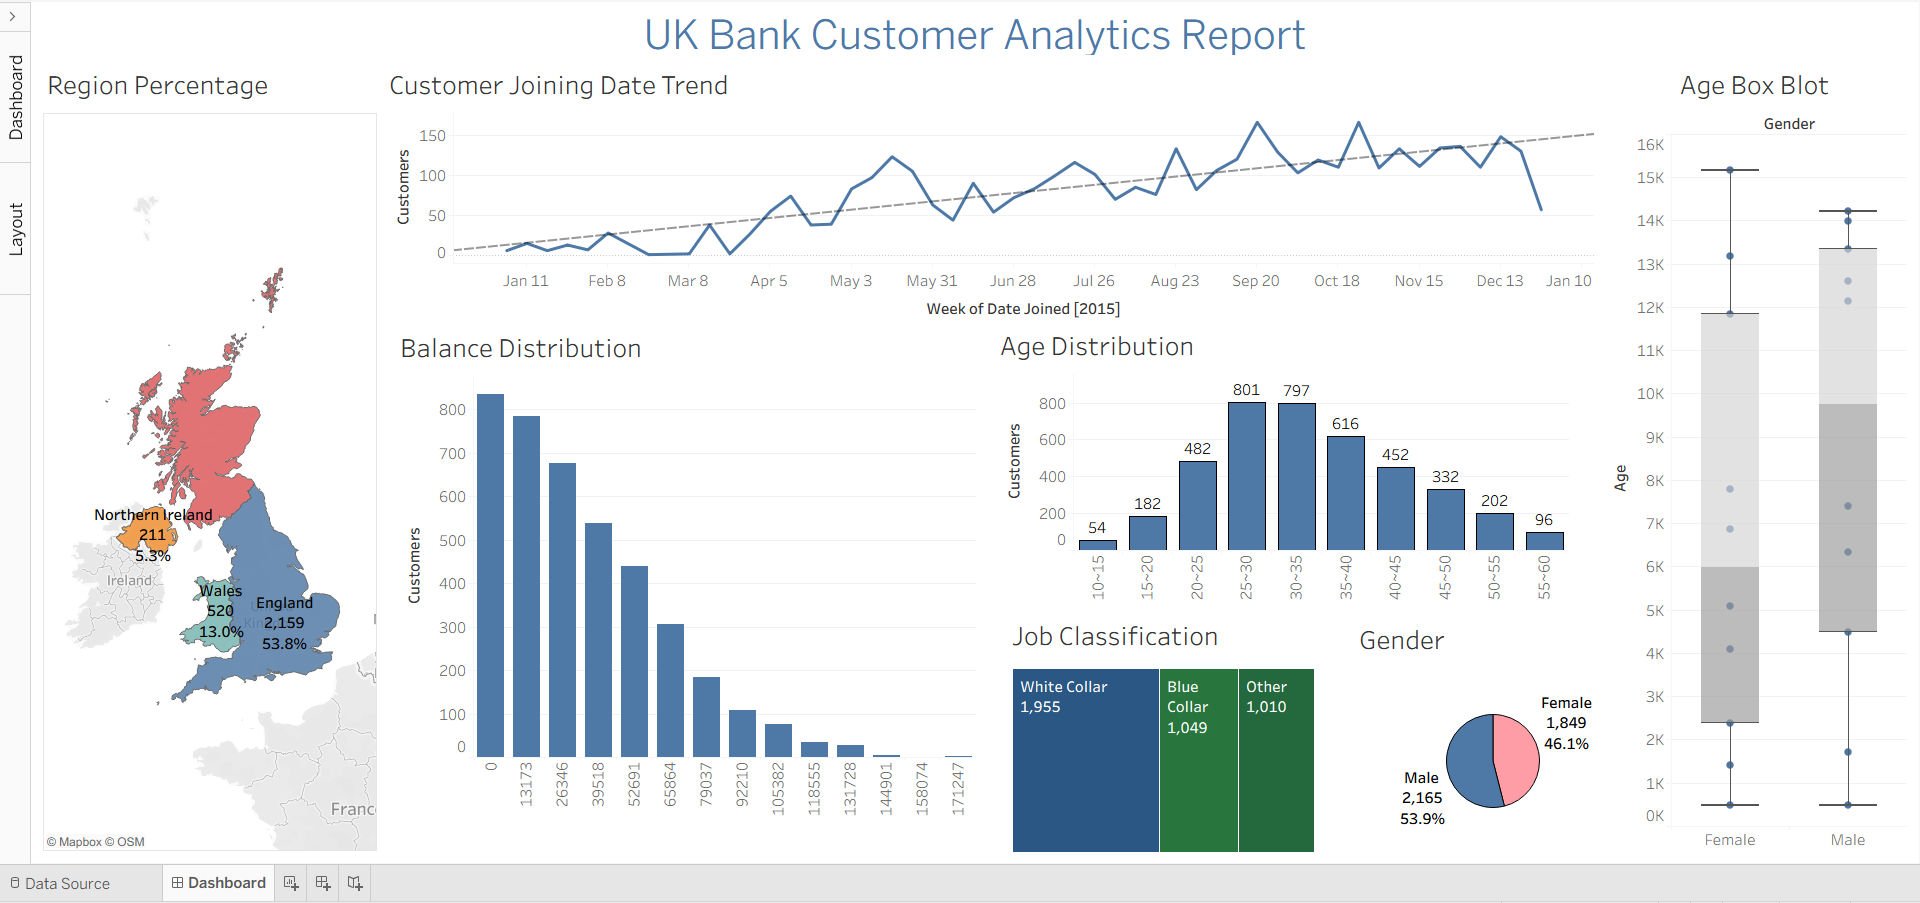

This screenshot's page, from the dashboard's own definition file:
{"tool":"tableau","page":{"name":"Dashboard","canvas":[1000,1000],"units":"permille","ordinal":0},"visuals":[{"type":"text","box":[4.2,9.3,971.3,56.9]},{"type":"worksheet","title":"Region Percentage","mark":"Multipolygon","box":[4.2,66.2,181.1,924.5]},{"type":"worksheet","title":"Customer Joining Date Trend","mark":"Automatic","rows":["Customer ID"],"cols":["Date Joined"],"box":[185.3,66.2,644.7,314.8]},{"type":"worksheet","title":"Age Box Blot","mark":"Circle","rows":["Age"],"cols":["Gender"],"box":[830,66.2,165.7,924.5]},{"type":"worksheet","title":"Age Distribution","mark":"Automatic","rows":["UK-Bank-Customers.csv_8DE505FDD9AB446791BD52B82F0456D7"],"cols":["Age (bin) 2"],"box":[511.3,373.8,303.3,332.5]},{"type":"worksheet","title":"Balance Distribution","mark":"Automatic","rows":["Customer ID"],"cols":["Balance (bin)"],"box":[193.3,376.2,307.3,593.8]},{"type":"worksheet","title":"Job Classification","mark":"Automatic","box":[517.5,710.8,173.7,282.2]},{"type":"worksheet","title":"Gender","mark":"Pie","box":[701.3,715.5,146.2,274.1]}]}

Visuals, with their boxes on the dashboard's canvas, which has no fixed pixel size, in thousandths of its width and height (x1, y1, x2, y2). These are canvas units, not pixel positions in the 1920x903 screenshot, which may show the page scaled, cropped or inside an application window:
text: <region>4, 9, 976, 66</region>
"Region Percentage" worksheet (Multipolygon marks): <region>4, 66, 185, 991</region>
"Customer Joining Date Trend" worksheet: <region>185, 66, 830, 381</region>
"Age Box Blot" worksheet (Circle marks): <region>830, 66, 996, 991</region>
"Age Distribution" worksheet: <region>511, 374, 815, 706</region>
"Balance Distribution" worksheet: <region>193, 376, 501, 970</region>
"Job Classification" worksheet: <region>518, 711, 691, 993</region>
"Gender" worksheet (Pie marks): <region>701, 716, 848, 990</region>
